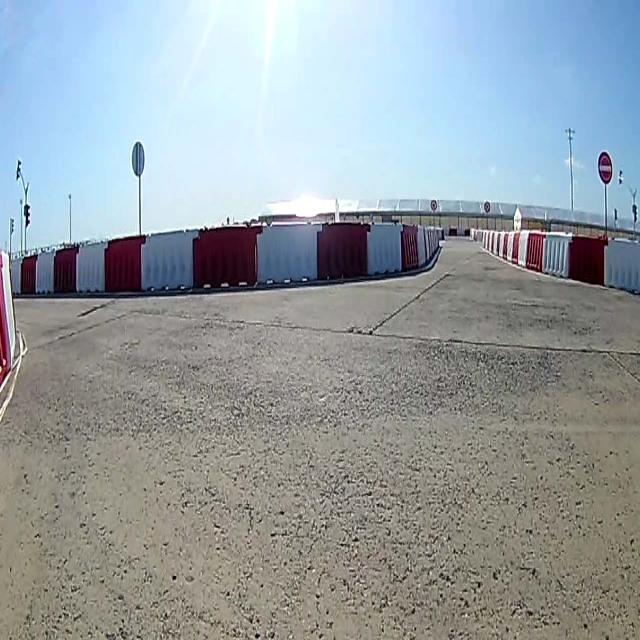girisyok: (598, 146, 613, 186)
